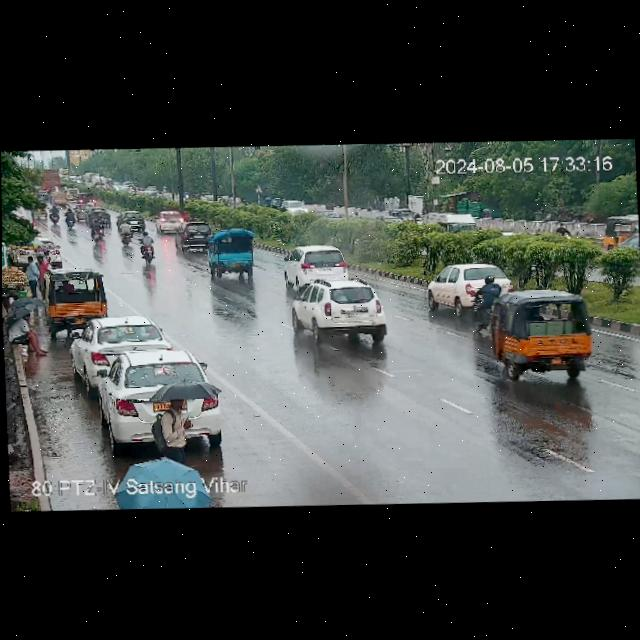car: (91, 349, 224, 454), (486, 287, 598, 384), (293, 278, 395, 348), (72, 317, 171, 383), (422, 261, 516, 319), (42, 268, 108, 331), (282, 243, 350, 285), (599, 209, 635, 252), (18, 237, 64, 266), (176, 218, 211, 251), (156, 207, 187, 234), (120, 209, 149, 230), (85, 204, 115, 224), (77, 190, 95, 206), (72, 203, 89, 218), (32, 207, 49, 219)
motorcycle: (468, 275, 504, 316), (136, 230, 158, 264), (88, 214, 107, 241), (116, 222, 133, 246), (556, 220, 572, 237), (65, 207, 75, 228), (50, 204, 60, 223), (414, 211, 422, 225)
person: (5, 313, 51, 359), (163, 389, 190, 454), (26, 252, 38, 297), (36, 253, 48, 289), (43, 248, 51, 266)
truck: (207, 231, 256, 280), (435, 210, 479, 235)
